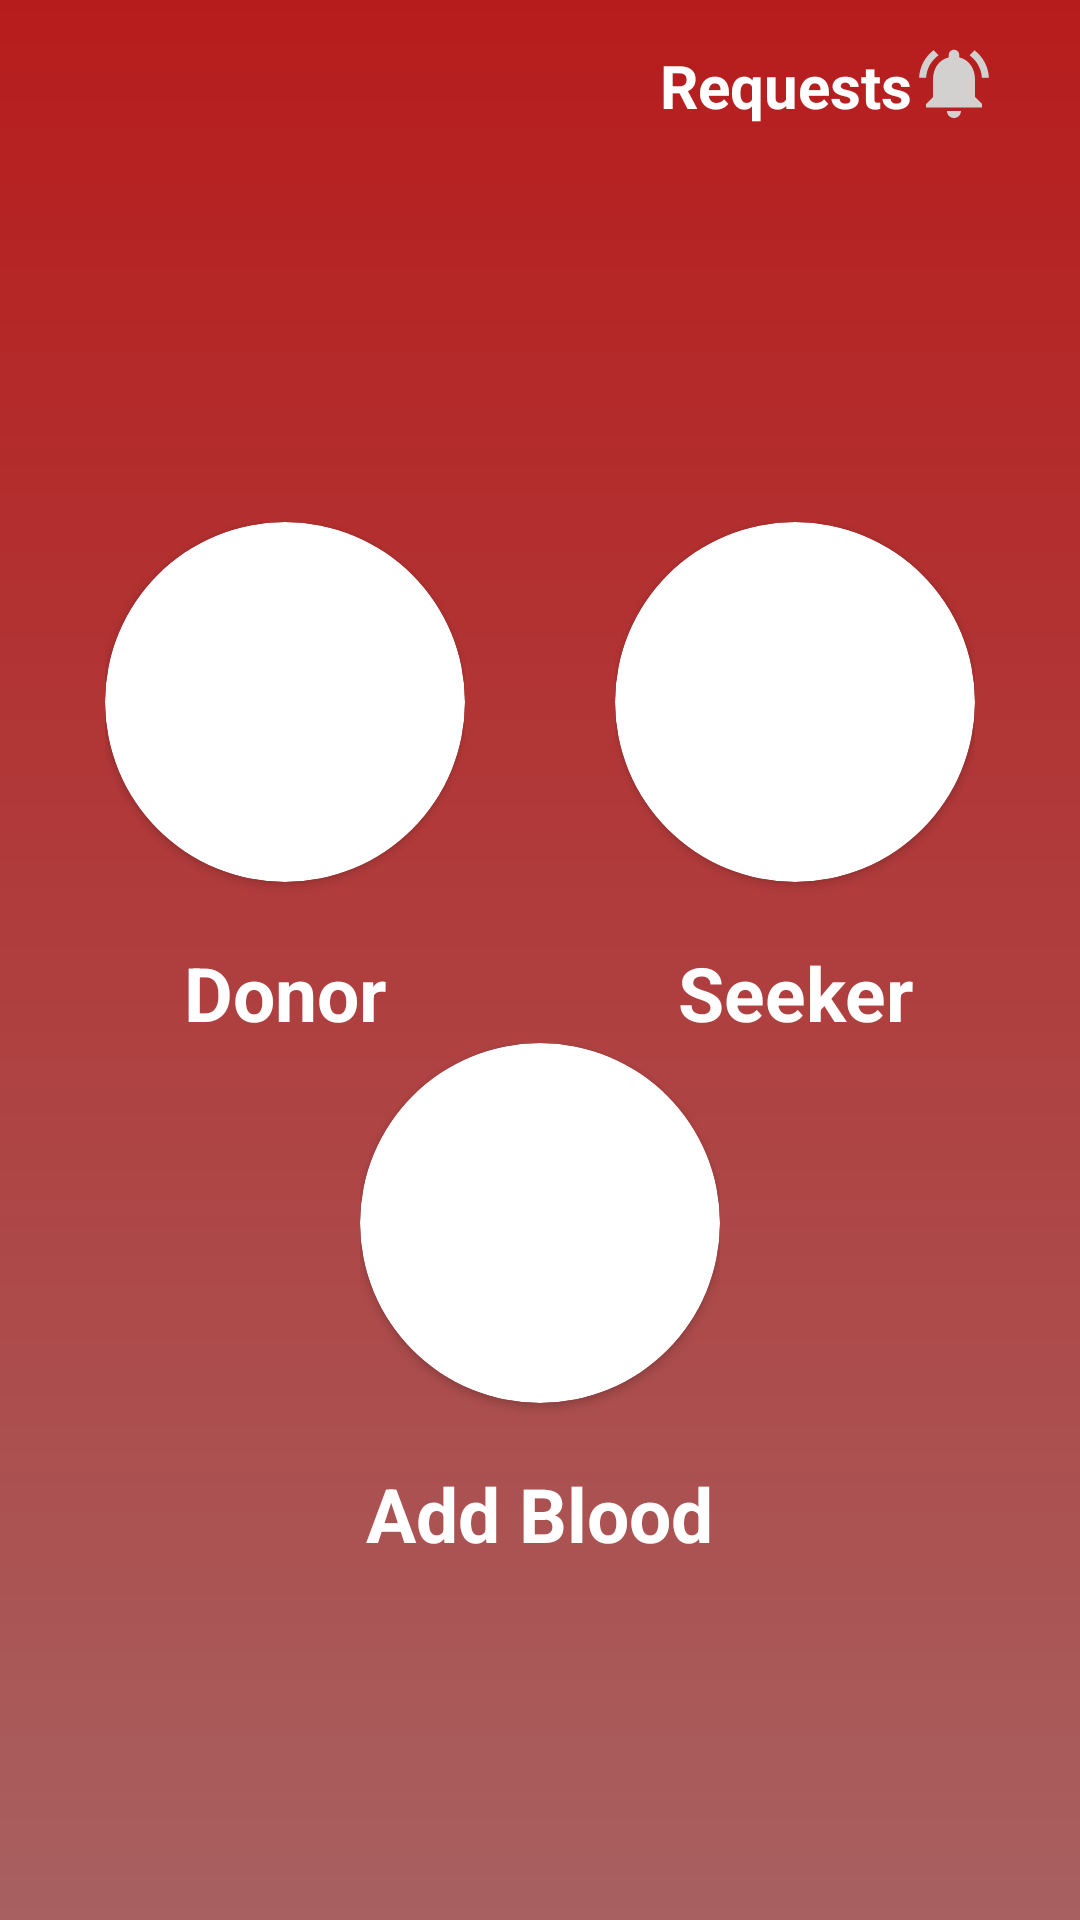

Where icons sit on this 1080x1920 app screen, as (x1, y1, x2, y2):
notifications: (919, 49, 989, 118)
